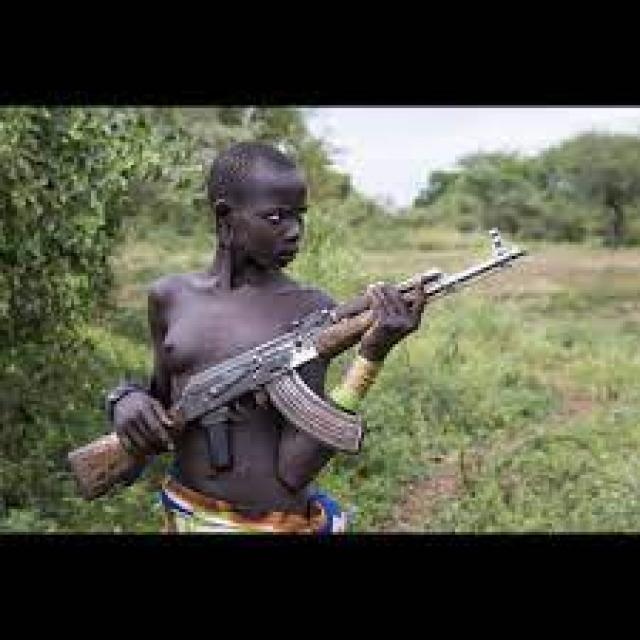weapon: (66, 229, 532, 503)
